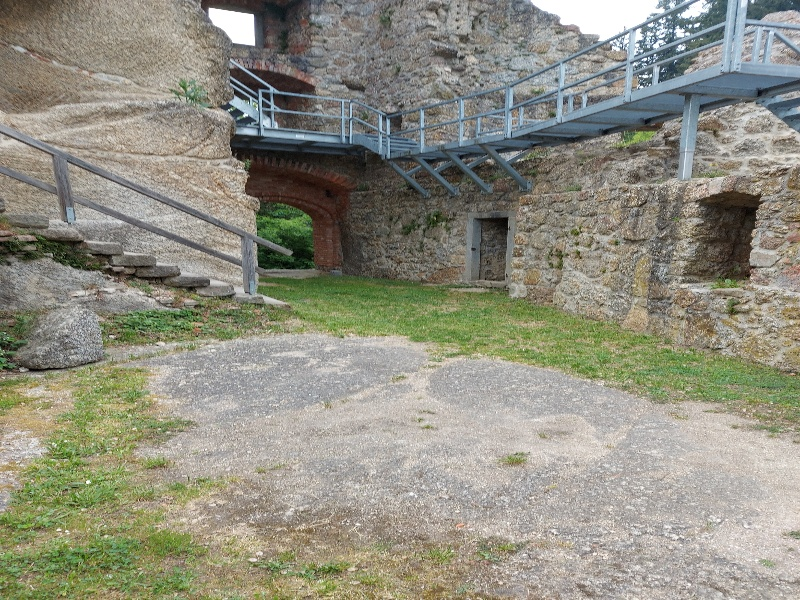door1: (462, 206, 514, 290)
